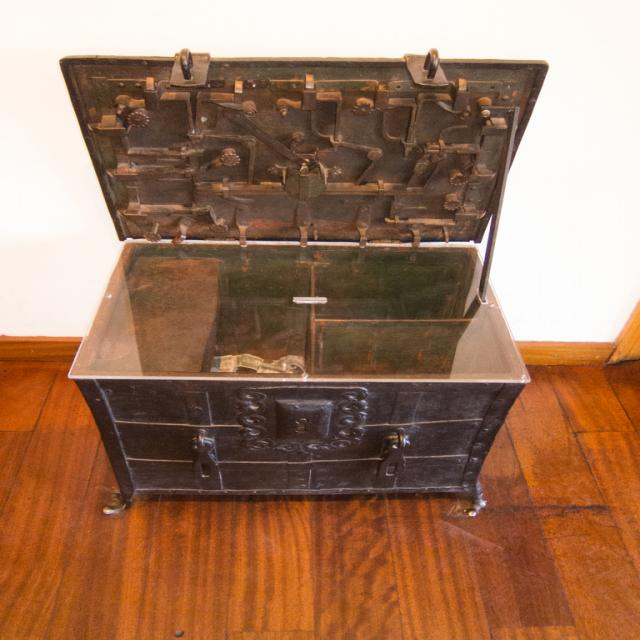Box: (51, 19, 567, 513)
